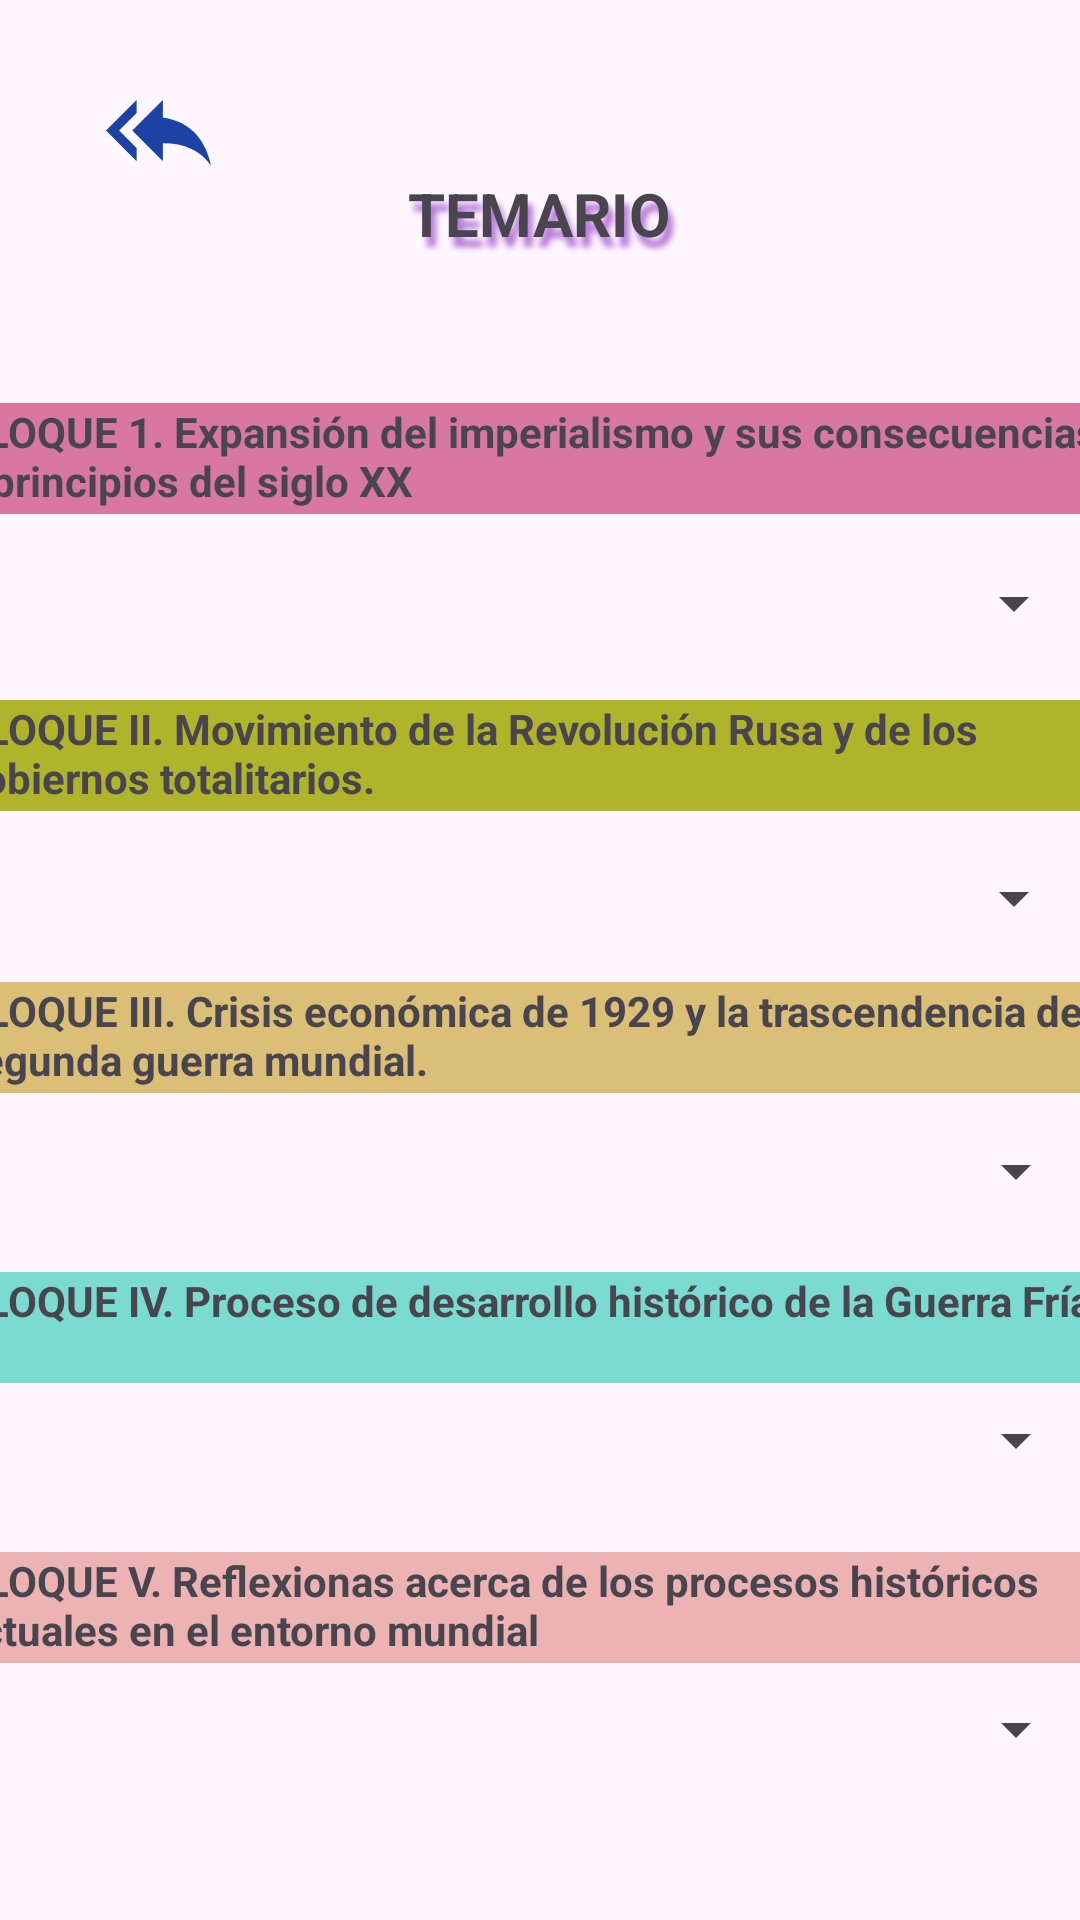

Where to tap for icons on this 1080 x 1920 app screen, as [x,y]:
backimage: [158,132]
